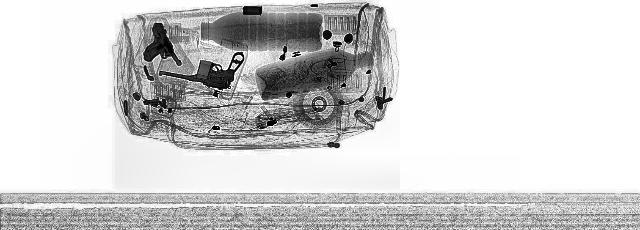Gun: (150, 47, 254, 87), (125, 22, 183, 66)
